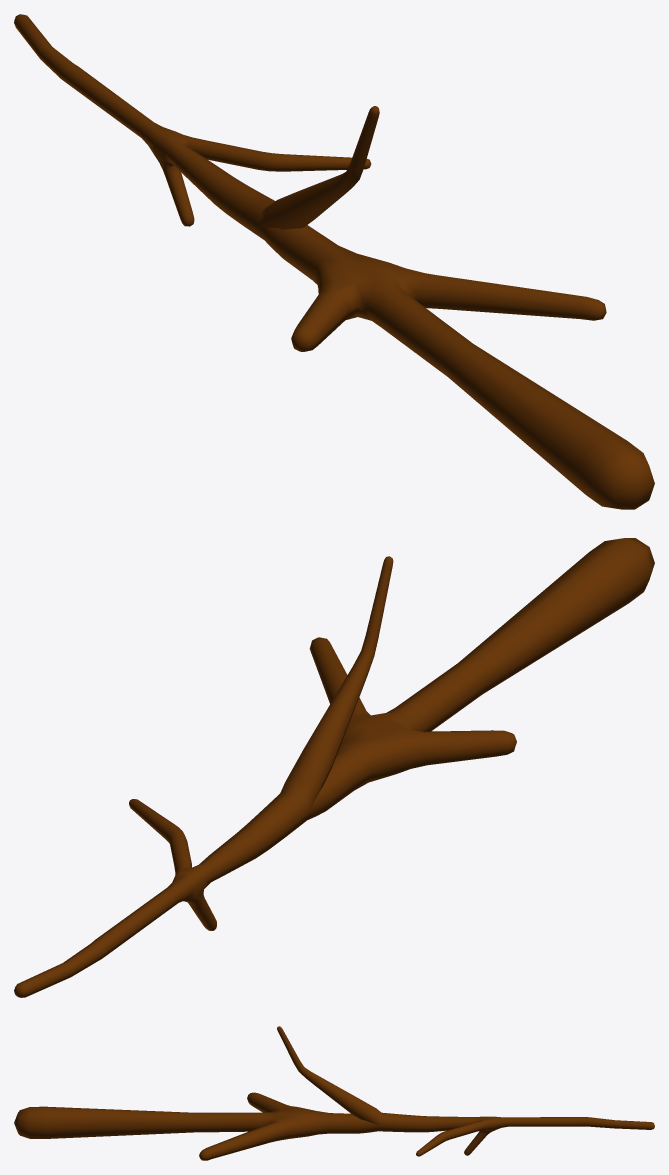
The model's file is fallen_tree.fbx.
3 views of the same model, one above another, from view 1: azimuth 30°, elevation 25°; view 2: azimuth 150°, elevation 25°; view 3: azimuth 270°, elevation 25° (orthographic). The views are drawn at different scales.
Parts seen in each view (by area): view 1: fallen_tree; view 2: fallen_tree; view 3: fallen_tree.
Part boxes in pixels (left/top/right/bottom): fallen_tree: left=14, top=14, right=654, bottom=509; fallen_tree: left=14, top=538, right=654, bottom=997; fallen_tree: left=14, top=1026, right=654, bottom=1160.
Bounding box in the file's own units: 40.09 × 37.18 × 167.
